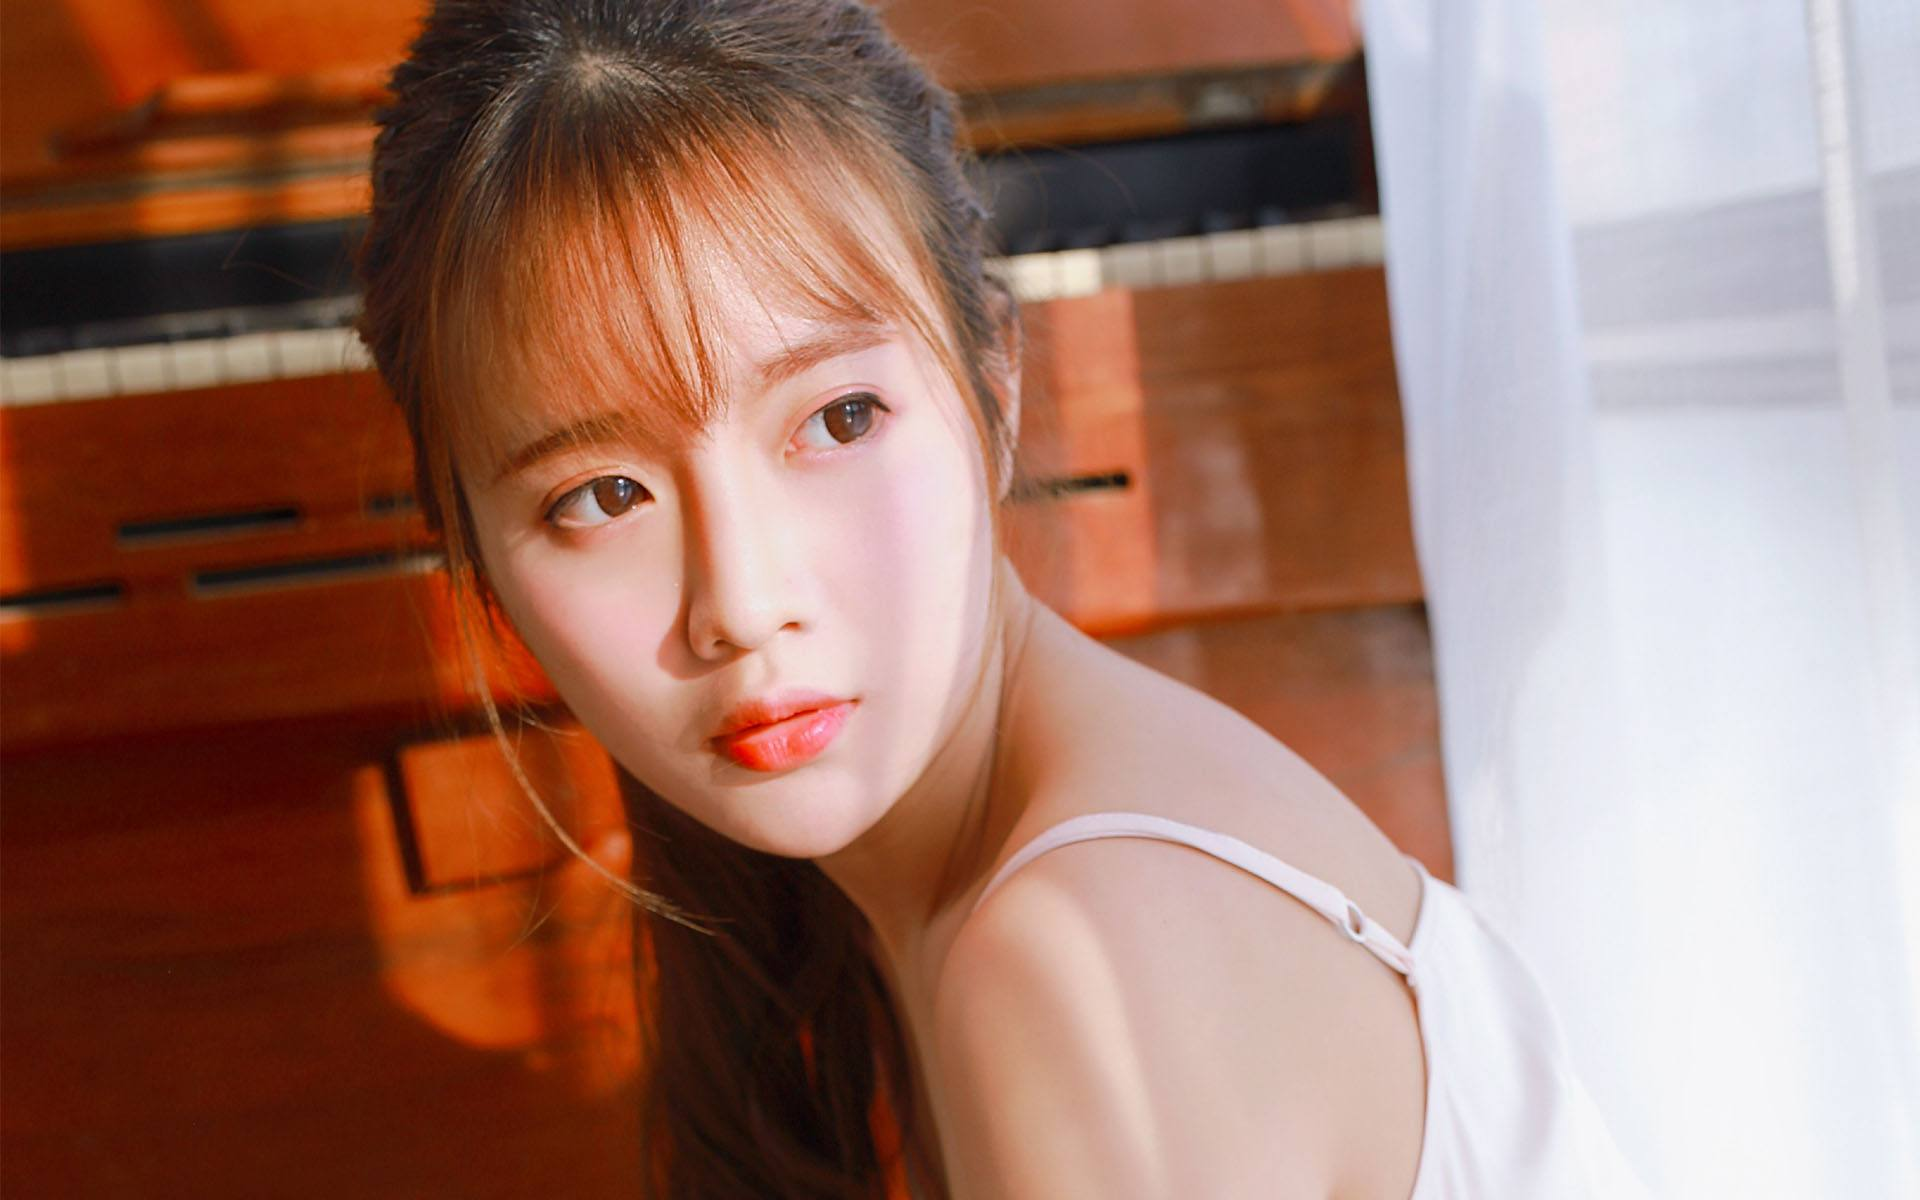person: (365, 5, 1266, 1200)
